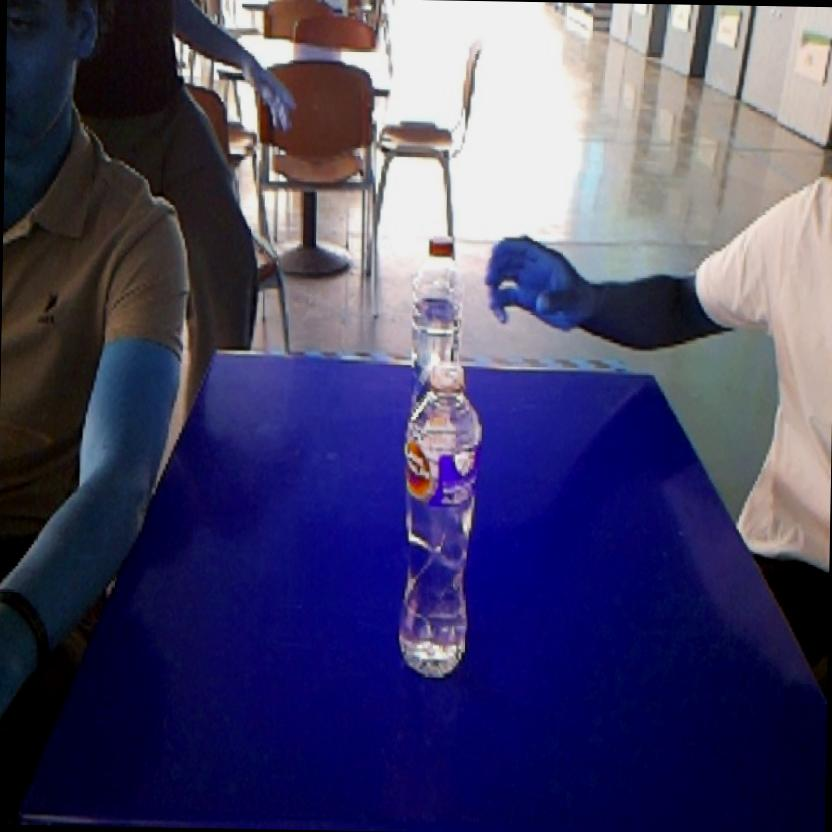no_cap: (390, 352, 485, 684)
no_label: (399, 231, 475, 356)
